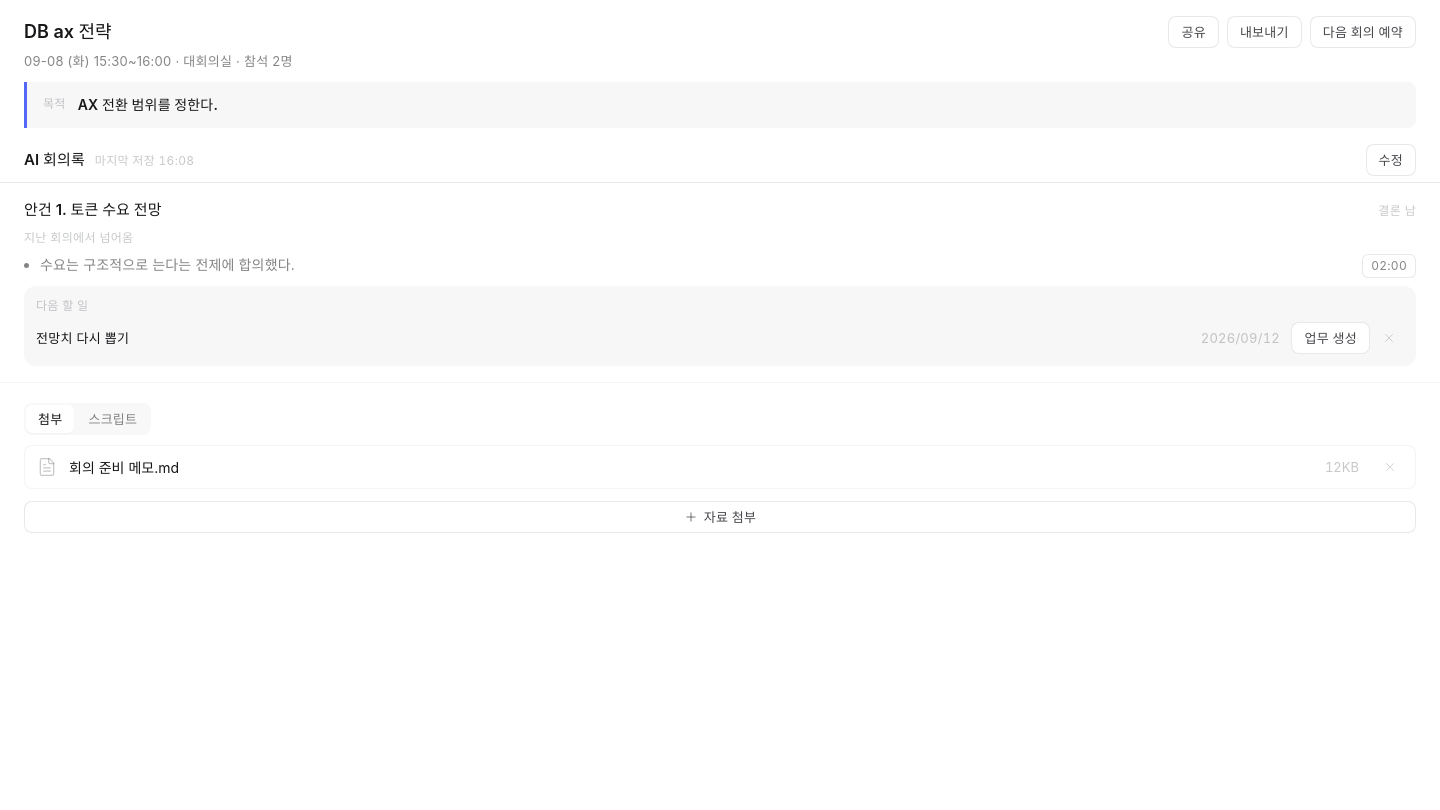
Scenario: SCR-106 회의 상세 — 상태와 관계가 무엇을 낼지 정한다 › 자료는 탭 안 미리보기가 아니라 드로어로 열린다
Expected: the button "DB ax 전략" is shown, [24, 21, 112, 42]
Click the text "회의 준비 메모.md": [124, 467] box [69, 459, 179, 476]
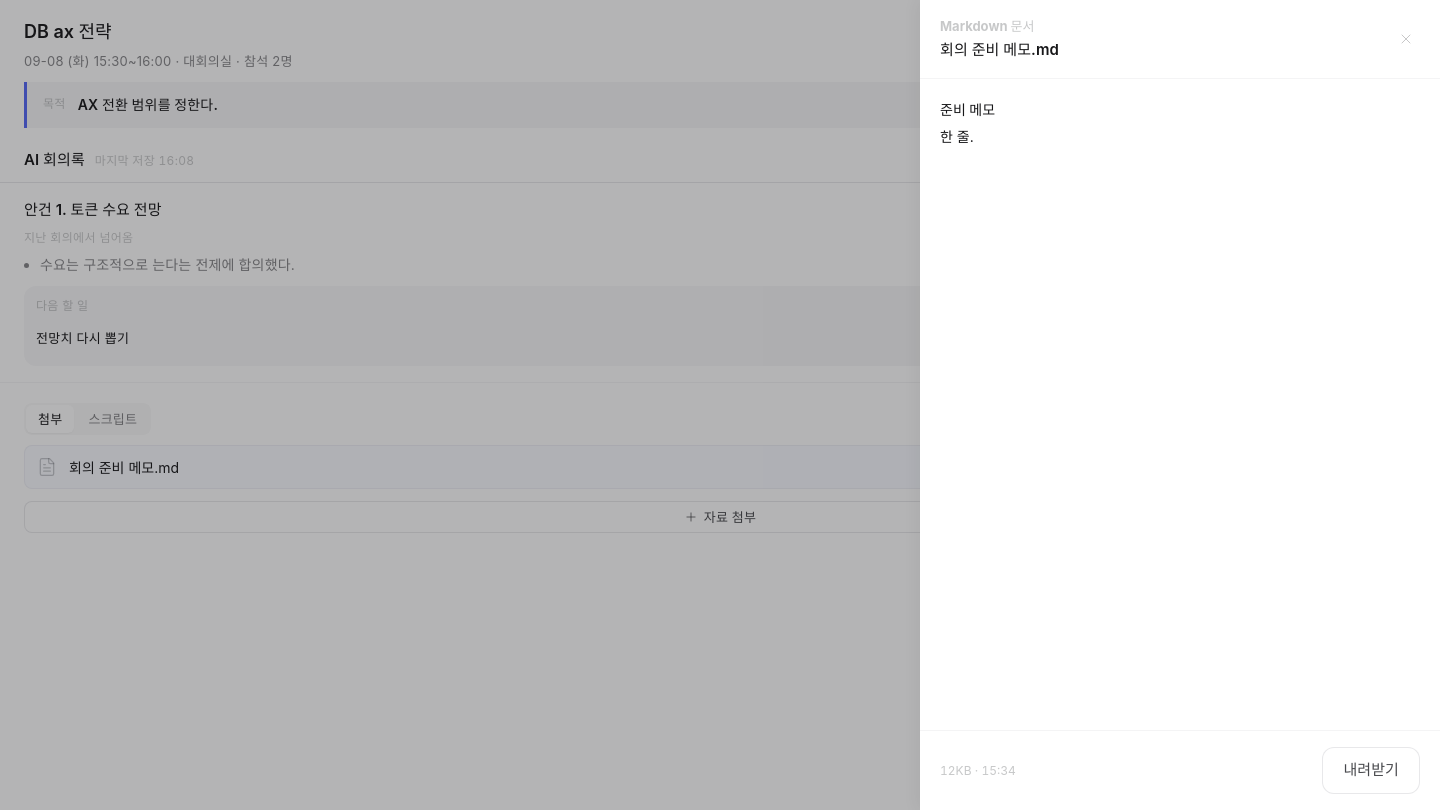
Expected: the dialog named "자료 보기" is shown, [920, 0, 1439, 809]
Expected: the text "준비 메모" is shown, [940, 100, 995, 118]
